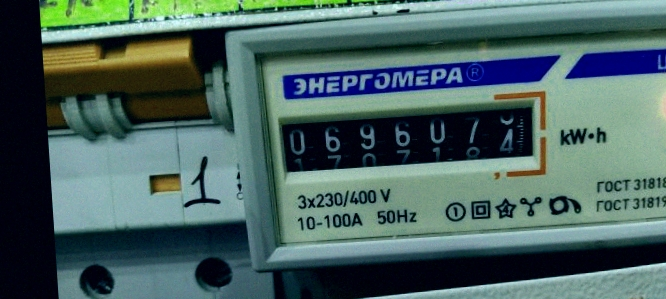0: (285, 125, 308, 157), (426, 115, 447, 145)
4: (494, 126, 515, 156)
6: (390, 117, 412, 150), (321, 123, 342, 153)
7: (461, 112, 481, 144)
9: (356, 121, 377, 151)
screen: (265, 83, 554, 194)
